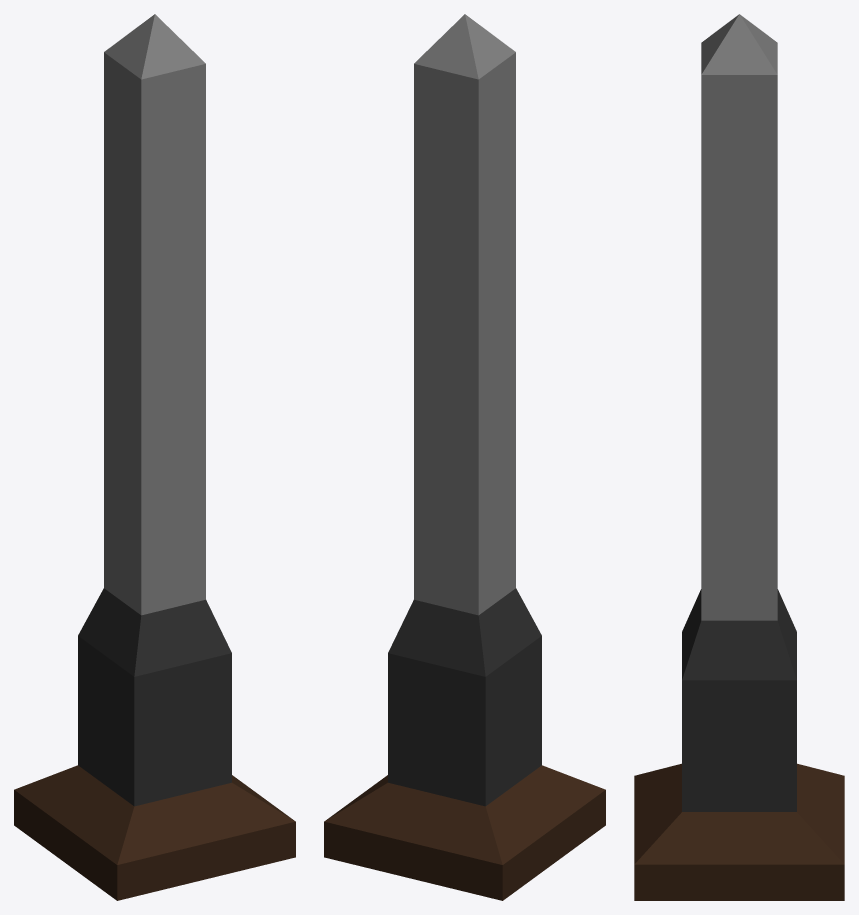
File: Beacon.fbx
The picture shows the model from 3 angles, left to right: view 1: azimuth 30°, elevation 25°; view 2: azimuth 150°, elevation 25°; view 3: azimuth 270°, elevation 25°; orthographic projection.
Visible parts, largest first — view 1: Cube.112; view 2: Cube.112; view 3: Cube.112.
Boxes of the visible parts, x1=… form: Cube.112: x1=14, y1=14, x2=295, y2=900; Cube.112: x1=324, y1=14, x2=605, y2=900; Cube.112: x1=634, y1=14, x2=844, y2=900.
Bounding box in the file's own units: 60.54 × 268 × 60.54.
